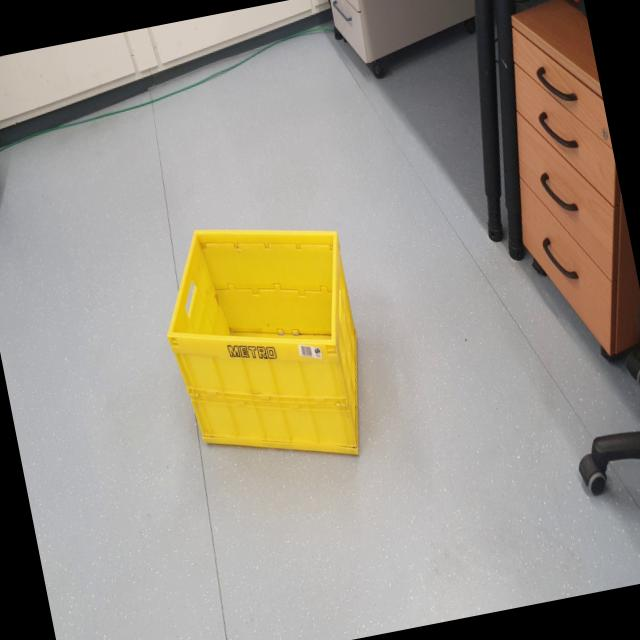box: (143, 188, 400, 511)
